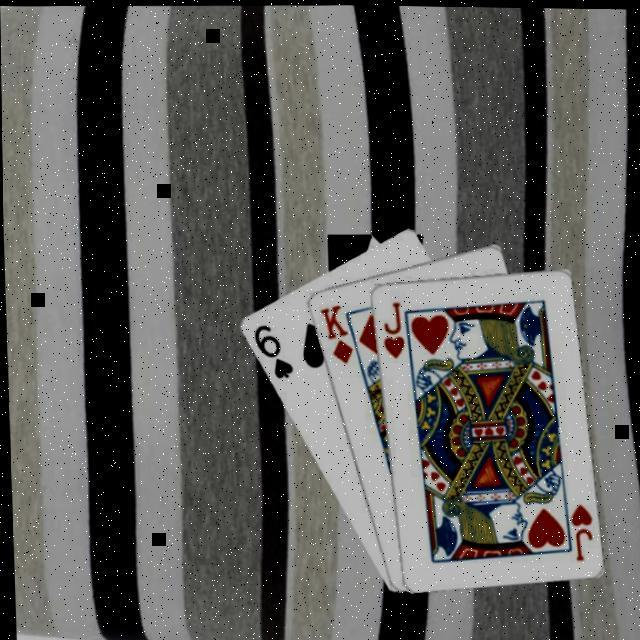6S: (249, 318, 295, 380)
JH: (378, 296, 406, 358), (566, 498, 594, 560)
KD: (316, 300, 356, 364)
